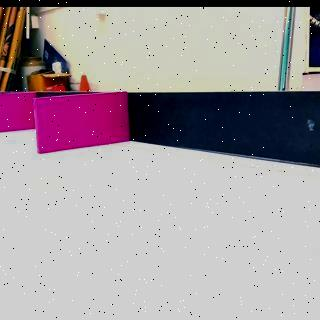xparking: (40, 96, 130, 146), (2, 90, 30, 130)
